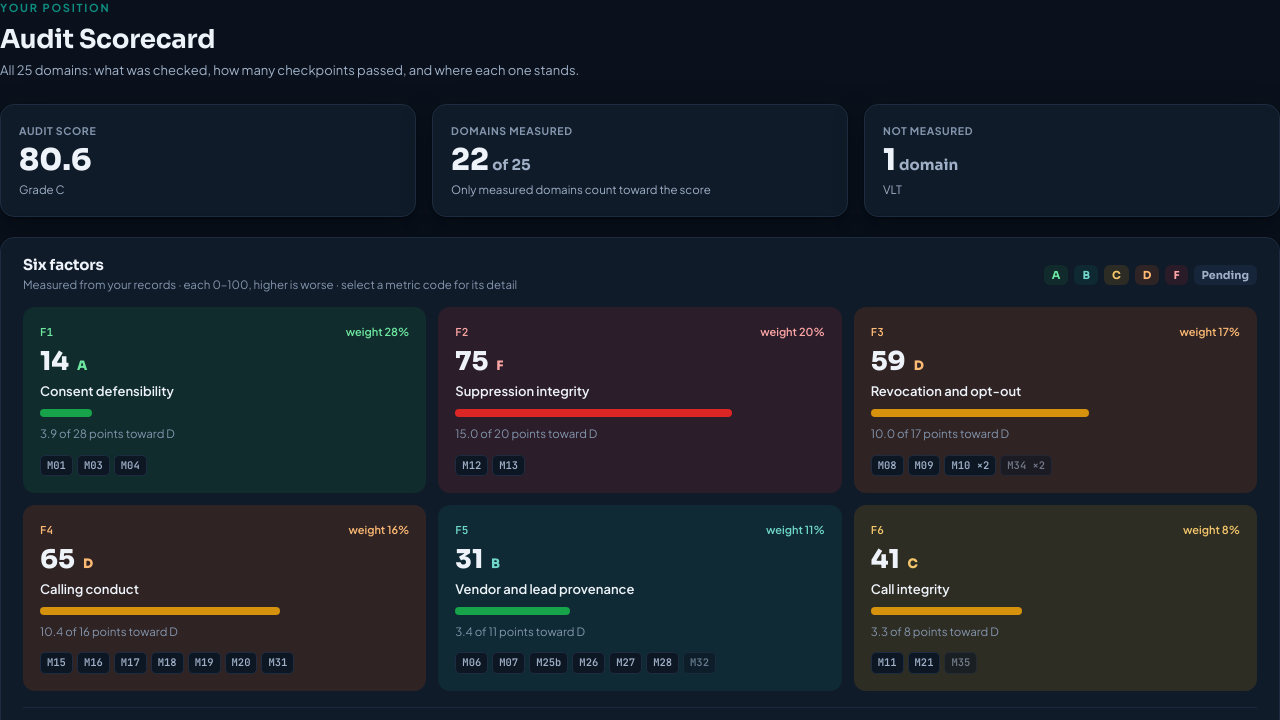
interactions › shows the six factors on the scorecard and opens a metric from a factor
expect the heading "Six factors" is shown: met, box [23,255,104,274]
expect the text "Consent defensibility" is shown: met, box [40,383,174,399]
Click the button named "Open metric M10" at coordinates (970, 466), box [944,455,996,476]
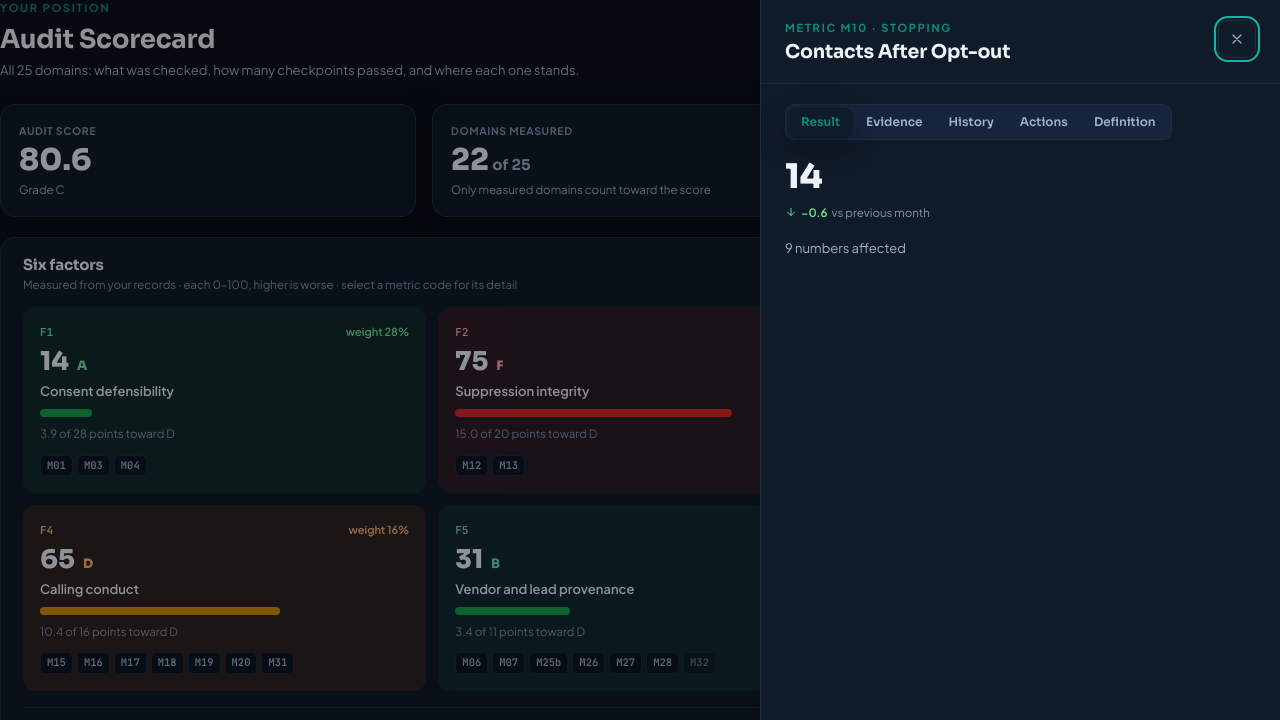
expect the dialog is shown: met, box [760,0,1279,719]
